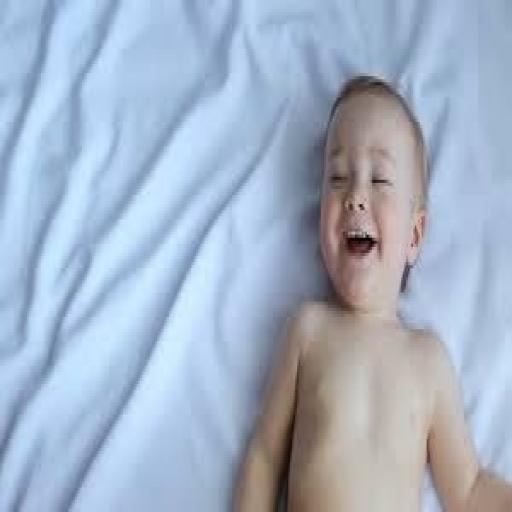laughing: (227, 64, 507, 506)
